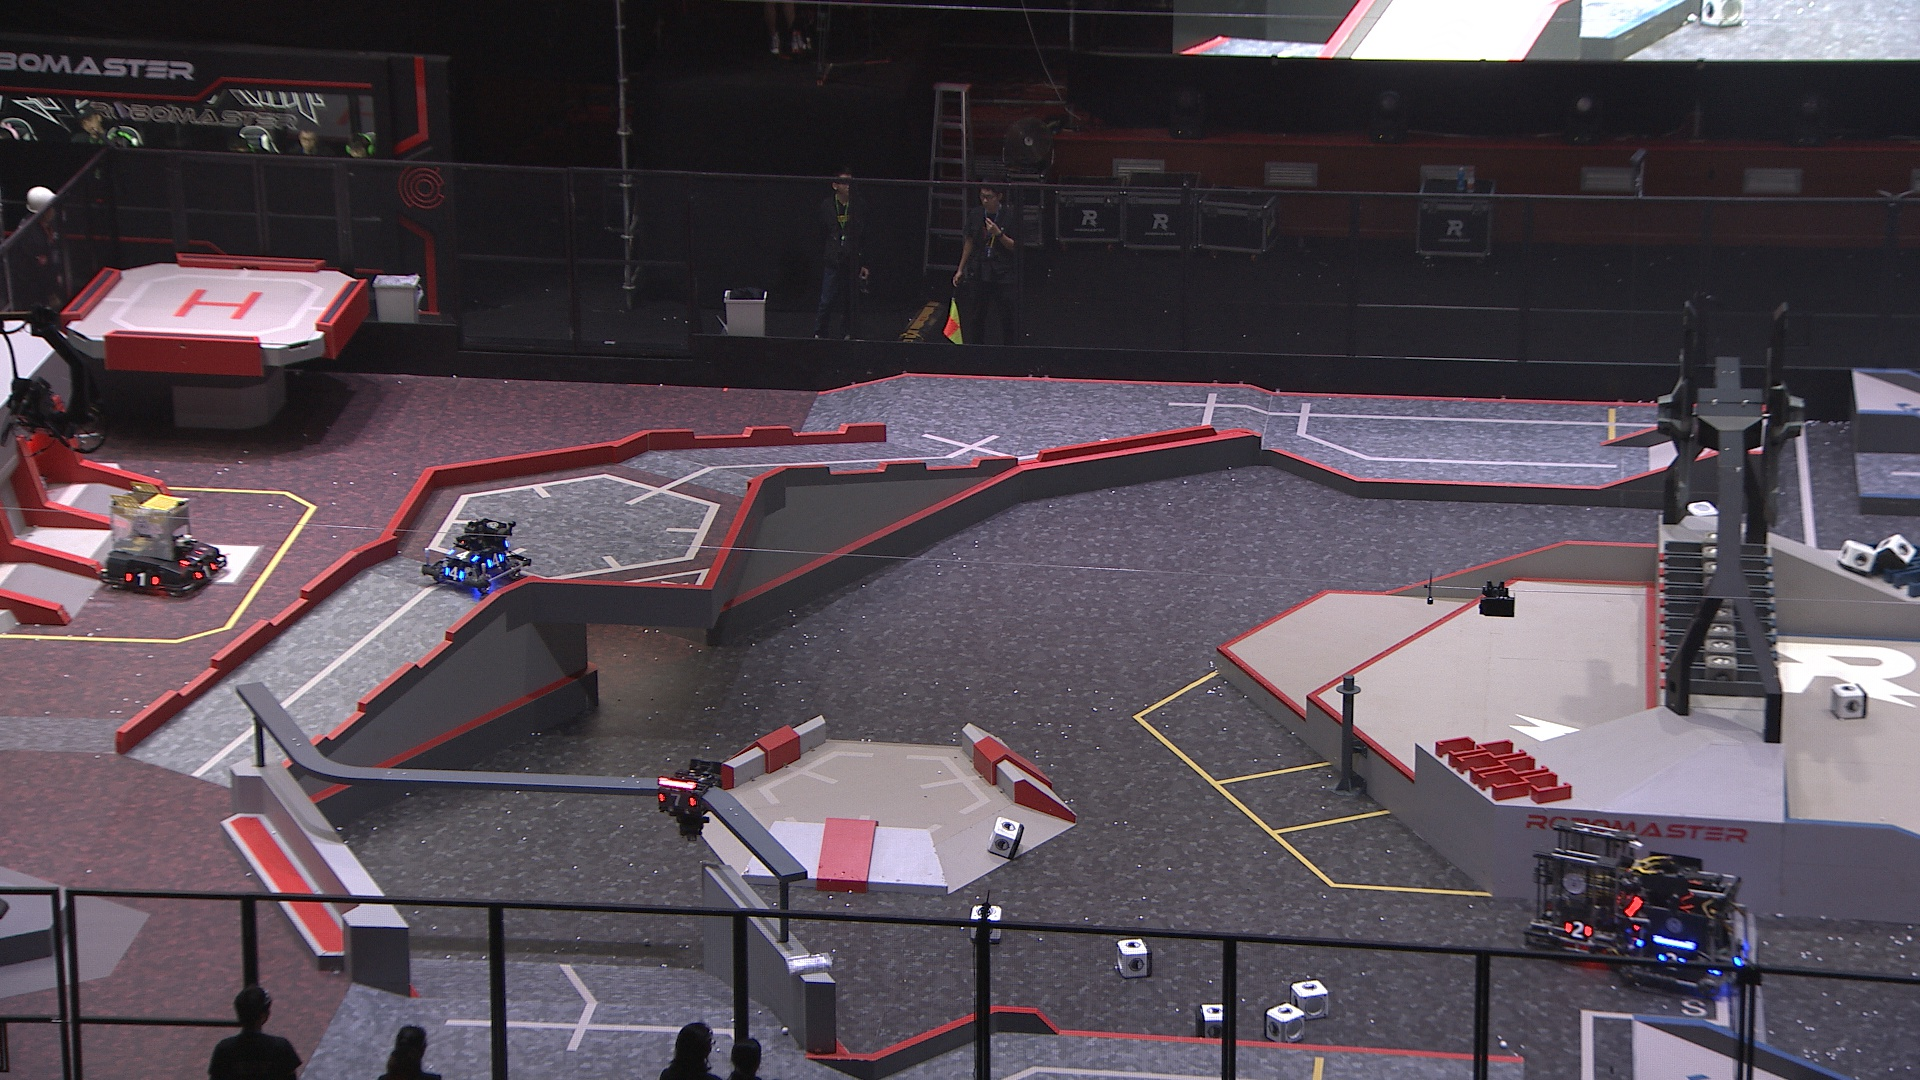armor: (654, 787, 699, 808), (121, 568, 164, 589), (1655, 948, 1688, 975), (1563, 916, 1593, 942), (191, 559, 219, 584), (446, 545, 480, 564), (178, 547, 204, 567), (443, 564, 465, 585), (484, 550, 508, 568)
car: (1619, 849, 1753, 996), (1523, 818, 1644, 965), (95, 477, 228, 600), (419, 512, 537, 600)
watcher: (647, 756, 724, 840)
